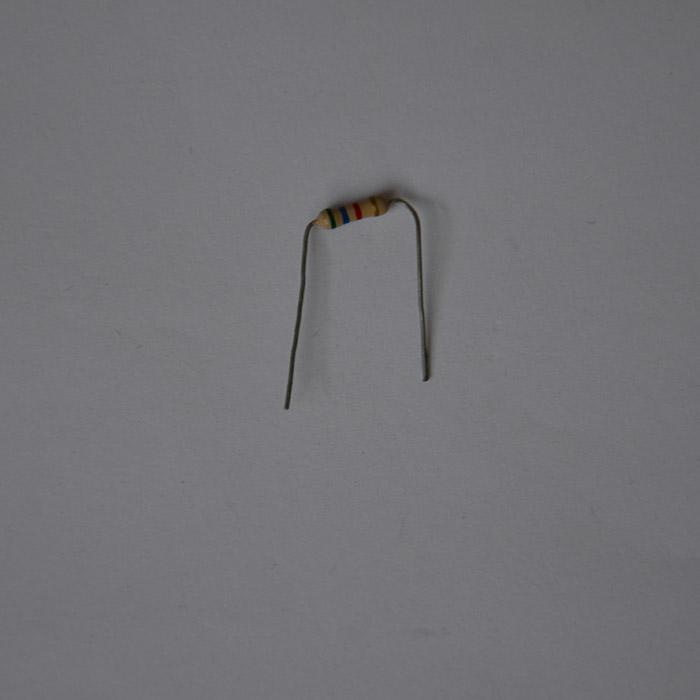resistor: (311, 194, 392, 231)
